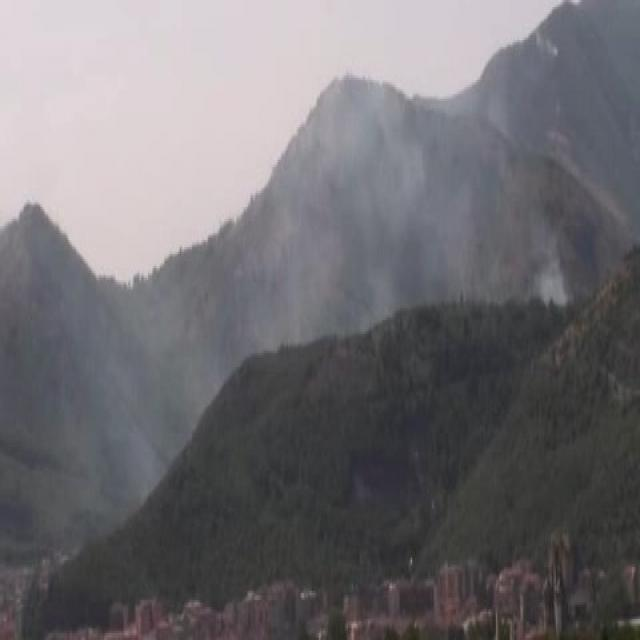smoke: (290, 88, 503, 314)
